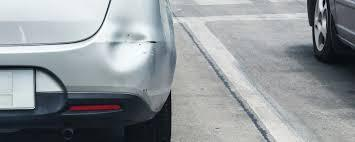dent: (99, 22, 158, 74)
